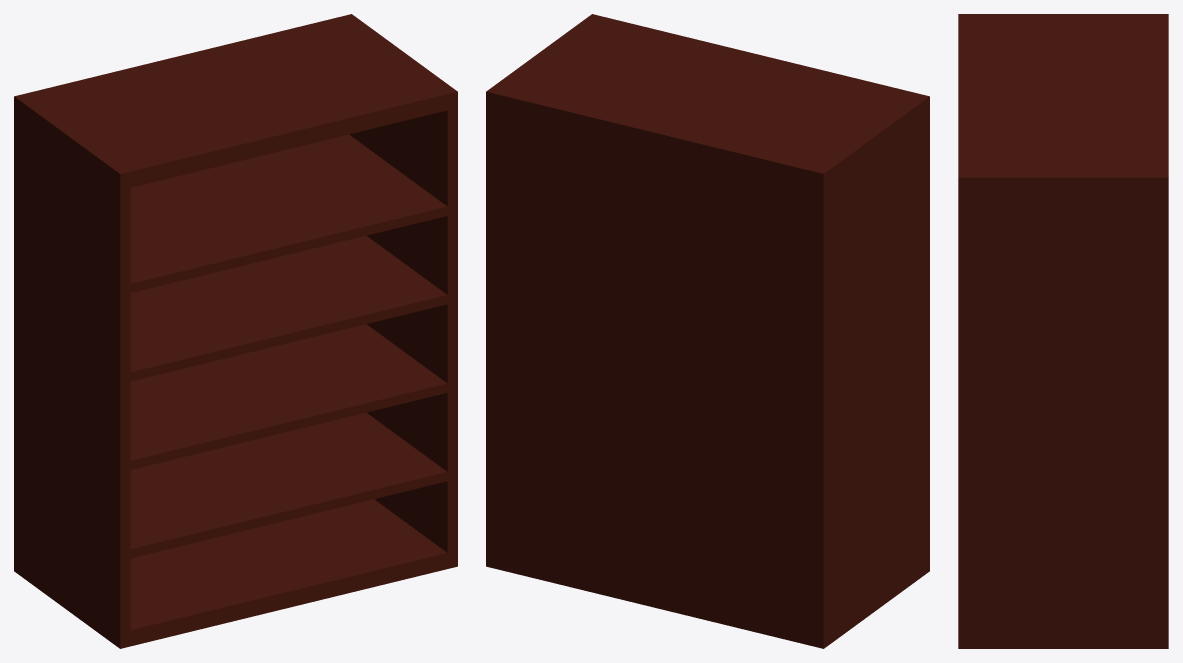
The model's file is estanteria.fbx.
3 renders of one model, left to right at view 1: azimuth 30°, elevation 25°; view 2: azimuth 150°, elevation 25°; view 3: azimuth 270°, elevation 25°, orthographic.
Parts seen in each view (by area): view 1: Cube; view 2: Cube; view 3: Cube.
Part boxes in pixels (x1,y1,x2,y2): Cube: [14, 14, 457, 648]; Cube: [486, 14, 929, 648]; Cube: [958, 14, 1168, 648].
Size of the model in its own units: 128 by 172 by 69.43.
